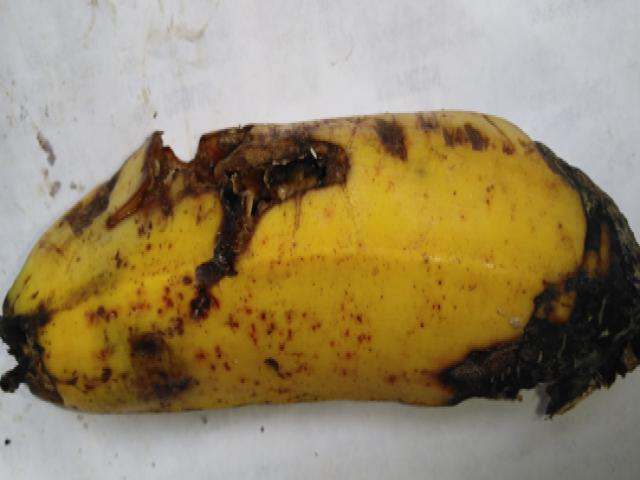rotten: (61, 79, 375, 327), (435, 93, 639, 470)
